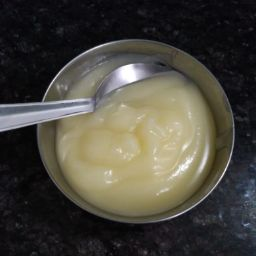Clarified Butter(ghee): (71, 68, 215, 214), (62, 123, 214, 194), (49, 86, 143, 196), (123, 98, 199, 187)
